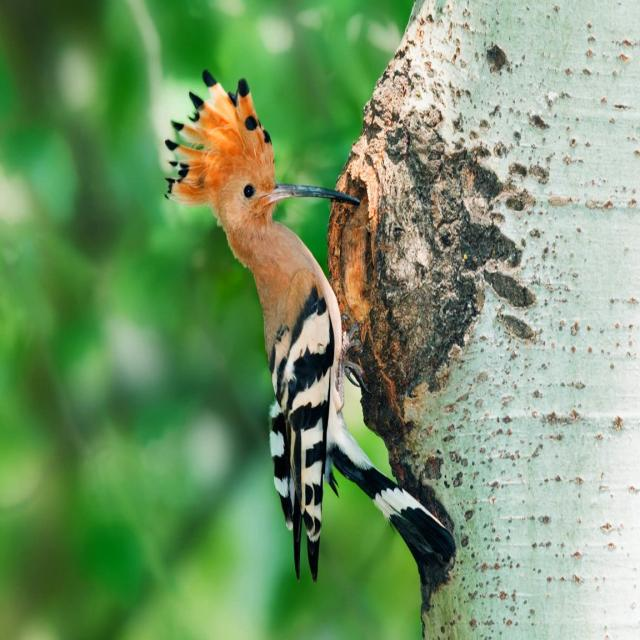woodpecker: (165, 70, 455, 579)
